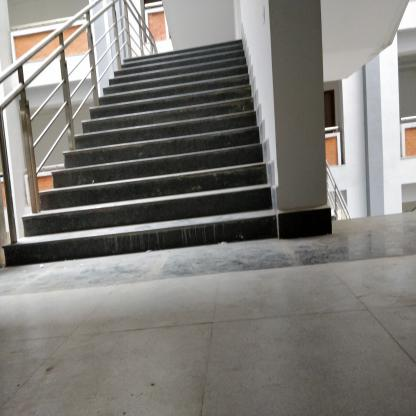stairs: (124, 59, 246, 253)
